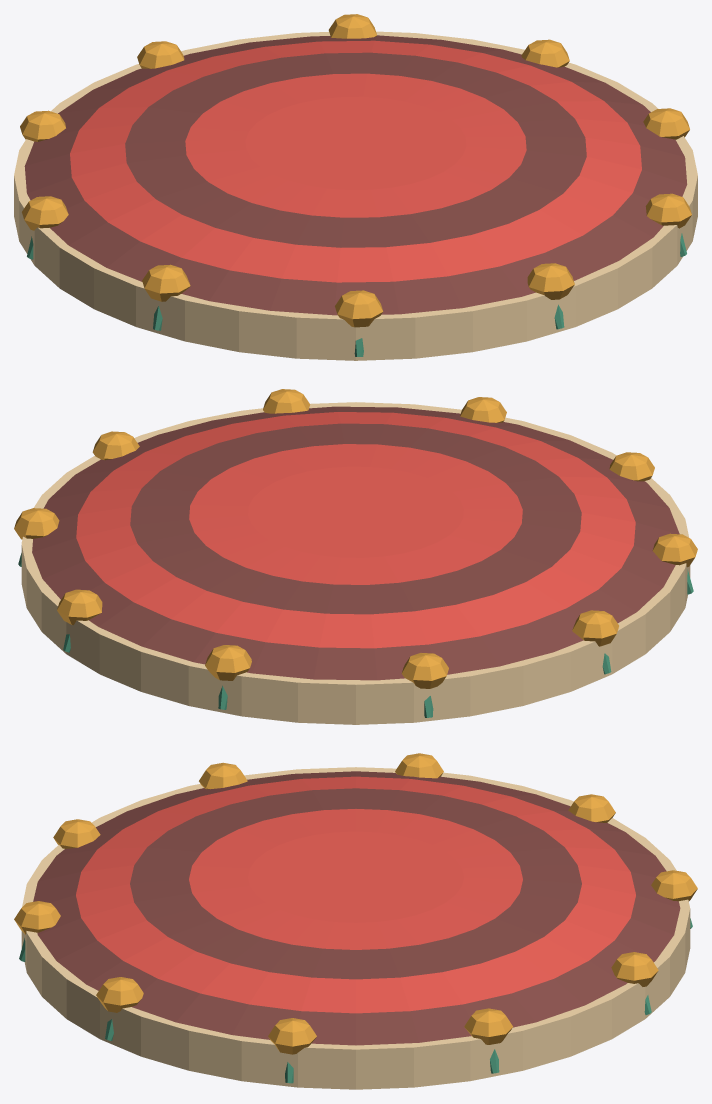
The model's file is ParkParkJellyMound.obj.
3 views of the same model, one above another, from view 1: azimuth 30°, elevation 25°; view 2: azimuth 150°, elevation 25°; view 3: azimuth 270°, elevation 25° (orthographic). The views are drawn at different scales.
Parts seen in each view (by area): view 1: ParkParkJellyMound; view 2: ParkParkJellyMound; view 3: ParkParkJellyMound.
Boxes of the visible parts, x1,y1,x2,y2 form: ParkParkJellyMound: [14, 14, 697, 360]; ParkParkJellyMound: [14, 389, 697, 724]; ParkParkJellyMound: [14, 753, 697, 1089].
Size of the model in its own units: 13.74 by 1.6 by 13.92.
